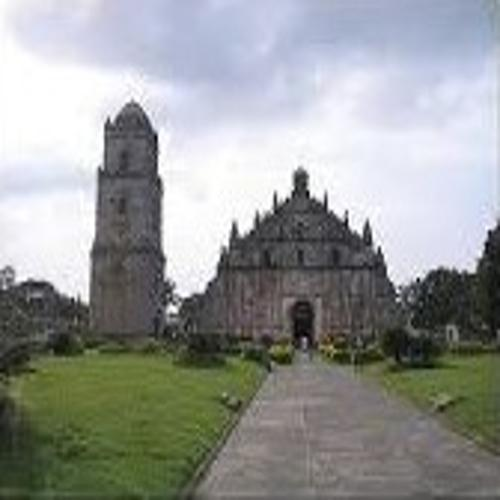Paoay Church: (83, 87, 411, 372)
